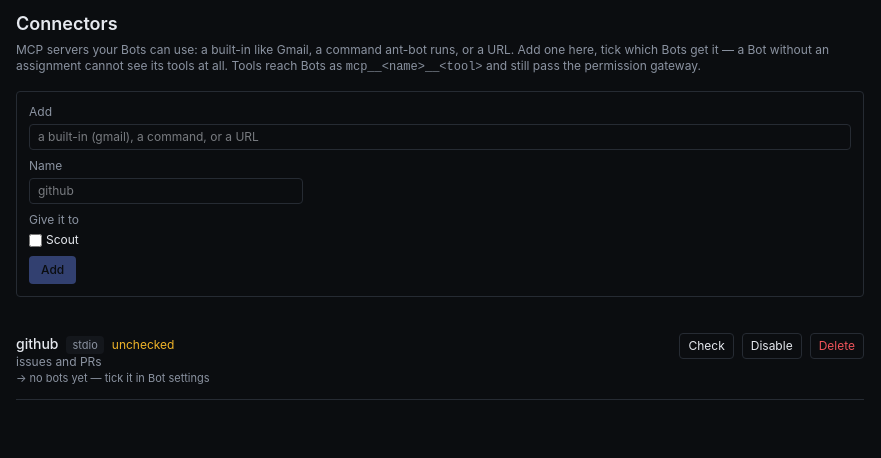
ConnectorsScreen › shows the tools a check reports, fully qualified
Click the button "Check".
click(707, 346)  # box x1=679 y1=333 x2=734 y2=359
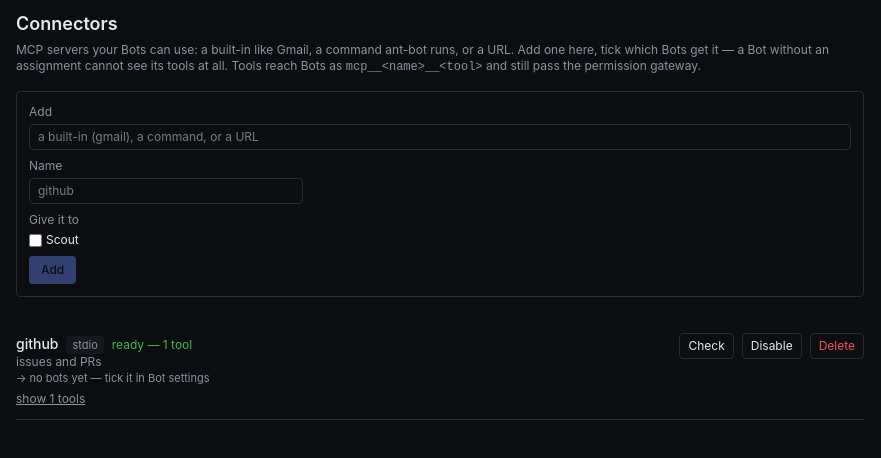
Click the button "show 1 tools".
click(51, 398)  # box x1=16 y1=390 x2=85 y2=406
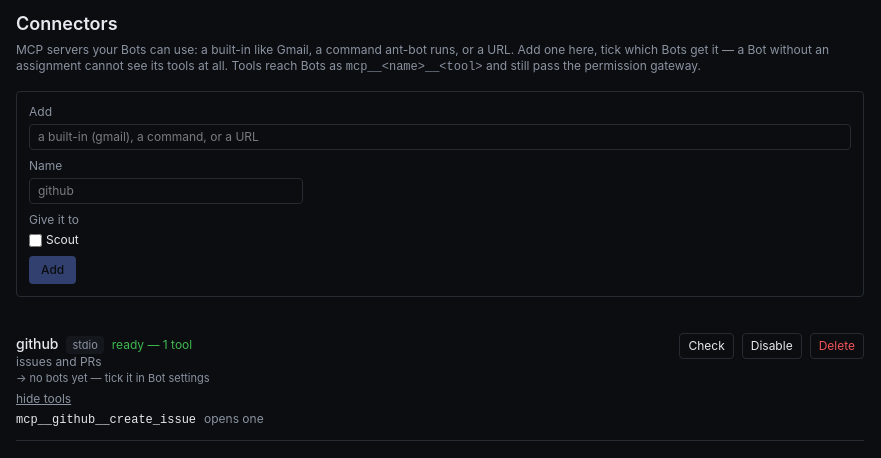
Now the text "mcp__github__create_issue" is shown, box x1=16 y1=412 x2=196 y2=426
